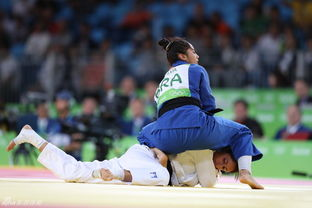fall: (3, 127, 267, 189)
